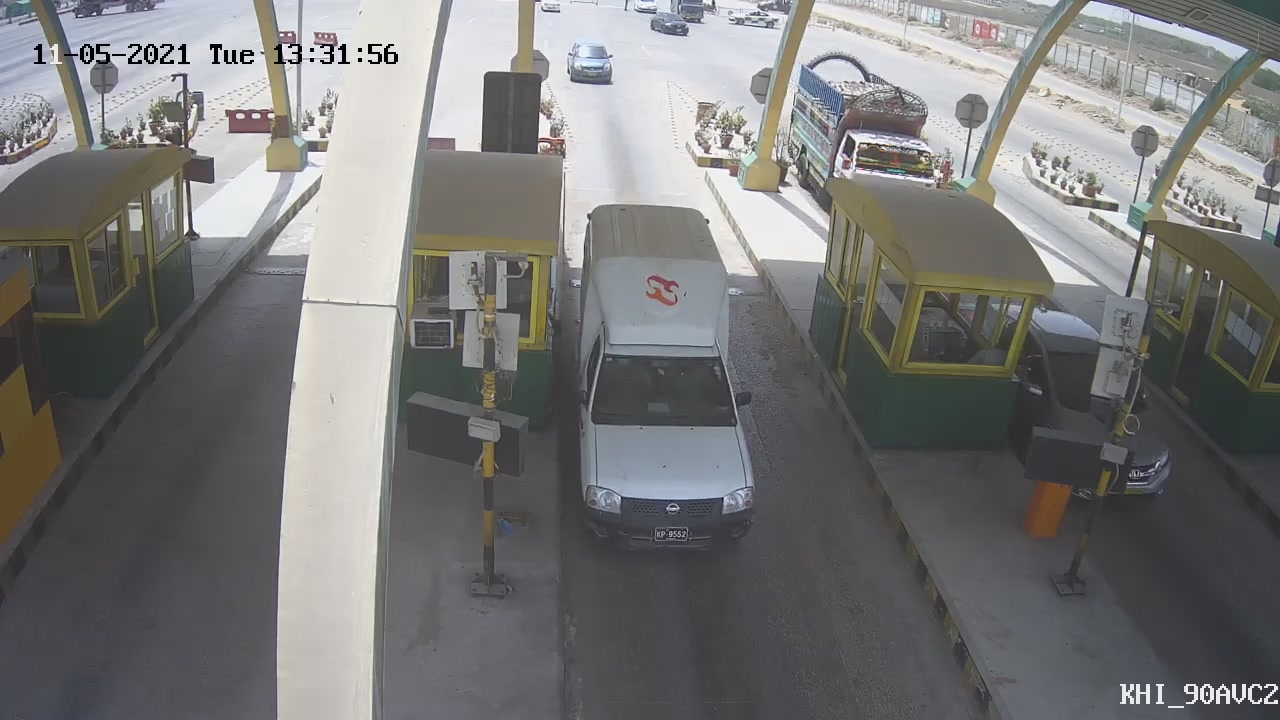F1: (566, 201, 771, 561)
